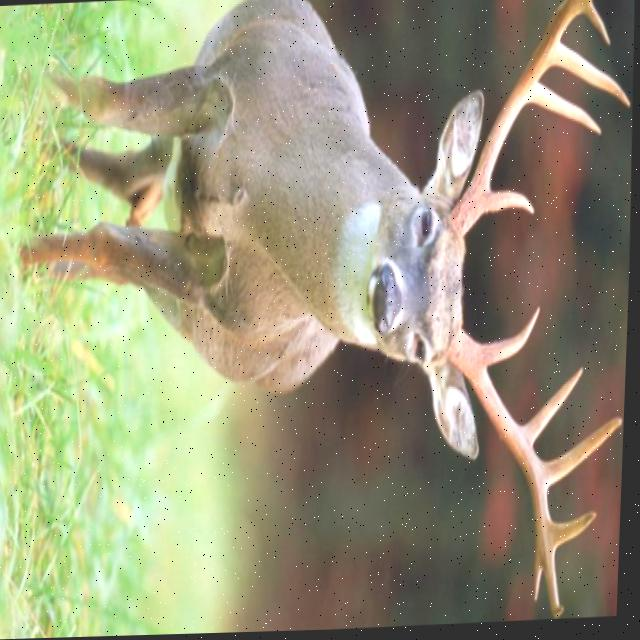L-F: (449, 0, 595, 242)
L-G1: (483, 192, 537, 219)
L-G2: (525, 84, 603, 142)
L-G3: (546, 43, 631, 112)
L-G4: (581, 3, 611, 51)
R-G1: (481, 307, 543, 371)
R-G2: (521, 369, 586, 450)
R-G3: (542, 419, 625, 494)
R-G4: (554, 513, 600, 556)
R-G5: (447, 331, 569, 622), (537, 545, 546, 607)
